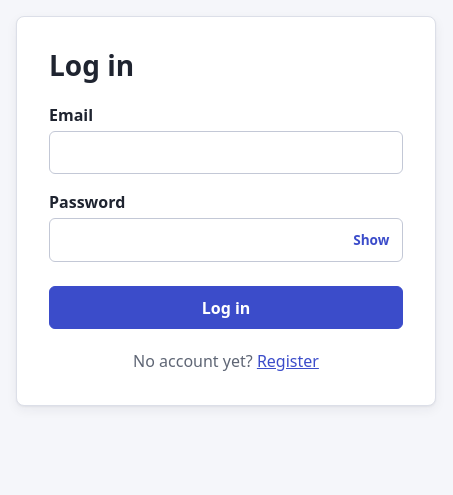
Test: Login page › shows the backend's generic error message on failed login, without leaking details
The image size is (453, 495).
Step 1. Type "thabo@example.com" into the field labelled "Email" → (226, 152), box [49, 131, 403, 174]
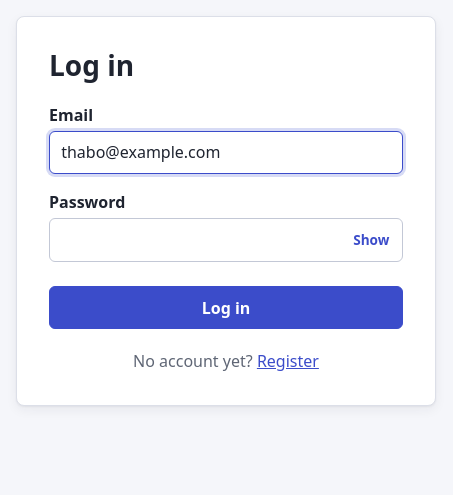
Step 2. Type "WrongPassword1!" into the password field labelled "Password" → (226, 240), box [49, 218, 403, 262]
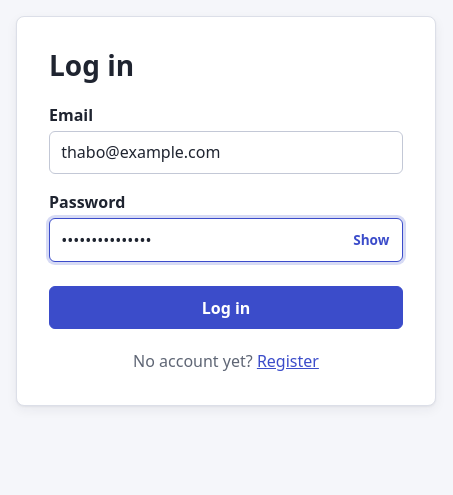
Step 3. Click the button "Log in" → (226, 308), box [49, 286, 403, 329]
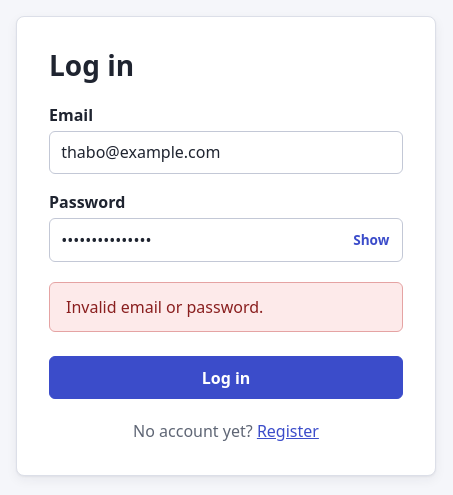
expect the text "Invalid email or password." is shown: met, box [66, 296, 263, 318]
